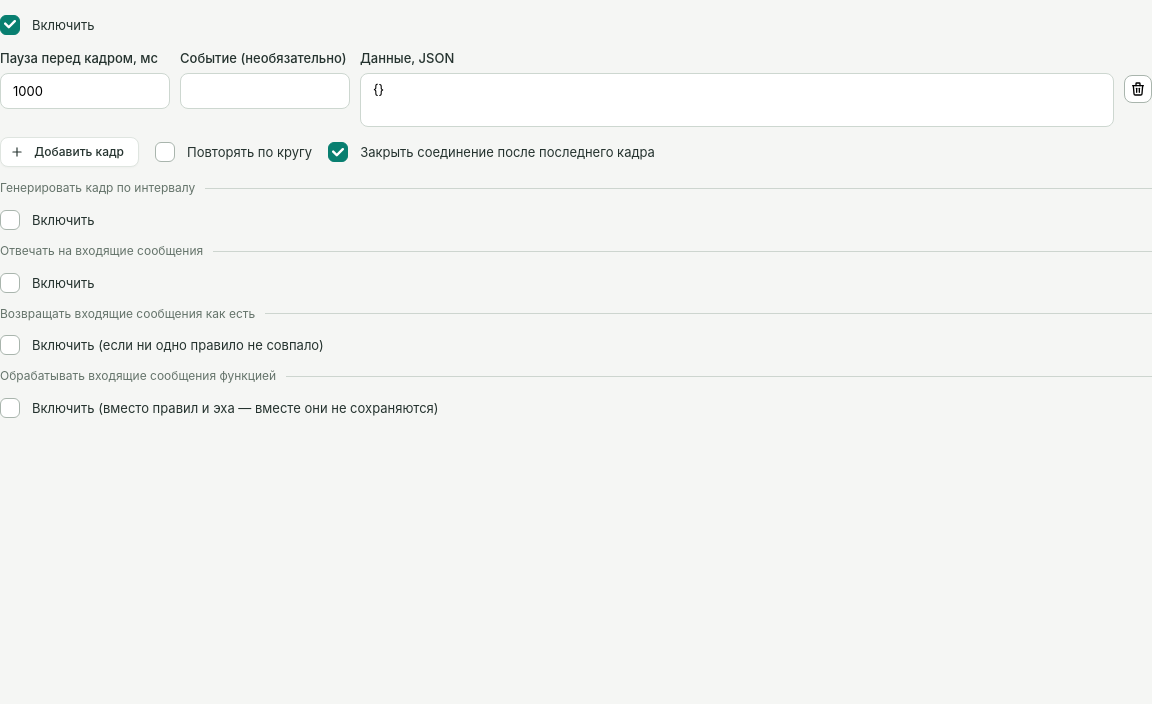
Test: StreamEditor › swaps the schema box for a Lua box when the tick's source is the function, ws only for the hook
Click the checkbox with test id "t-interval-on" at (10, 220), box x1=0 y1=210 x2=20 y2=230
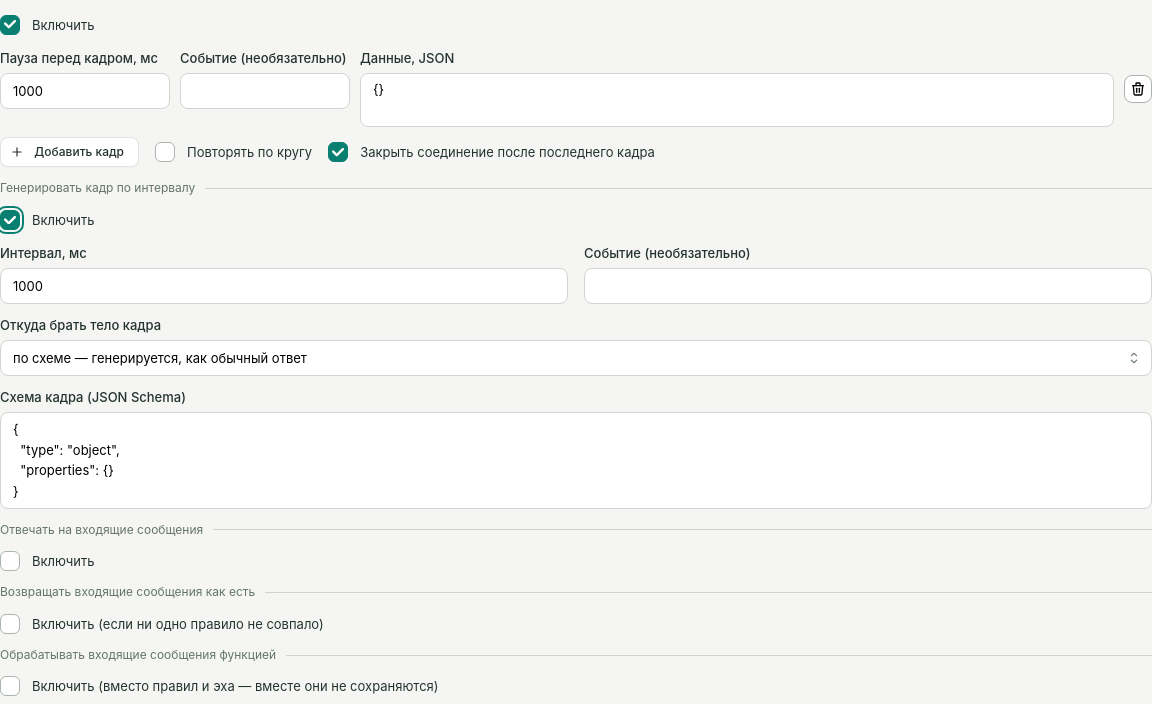
Now the text box with test id "t-interval-schema" is shown, box x1=0 y1=412 x2=1151 y2=508
Select "функцией на Lua — раздел «Функция эндпоинта» в руководстве" in the dropdown with test id "t-interval-source" at (576, 358), box x1=0 y1=340 x2=1151 y2=376
(page scrolled)
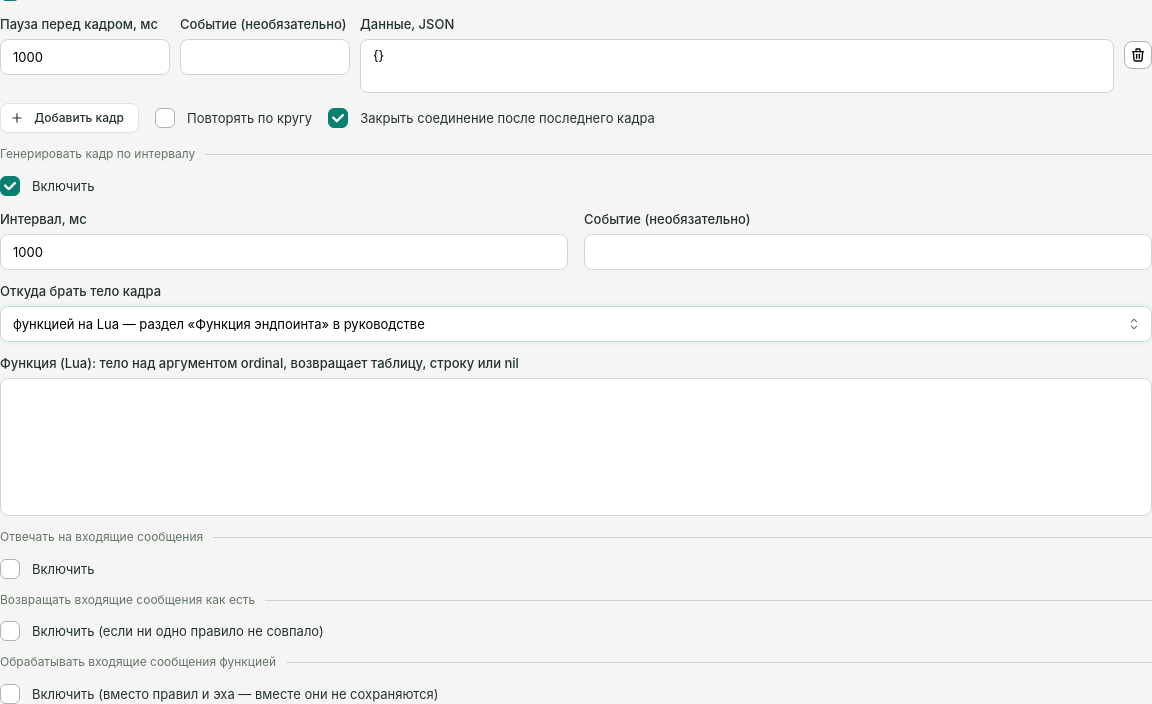
Now the text box with test id "t-interval-lua" is shown, box x1=0 y1=378 x2=1151 y2=516
Click the checkbox with test id "t-on-frame-on" at (10, 694), box x1=0 y1=684 x2=20 y2=703
(page scrolled)
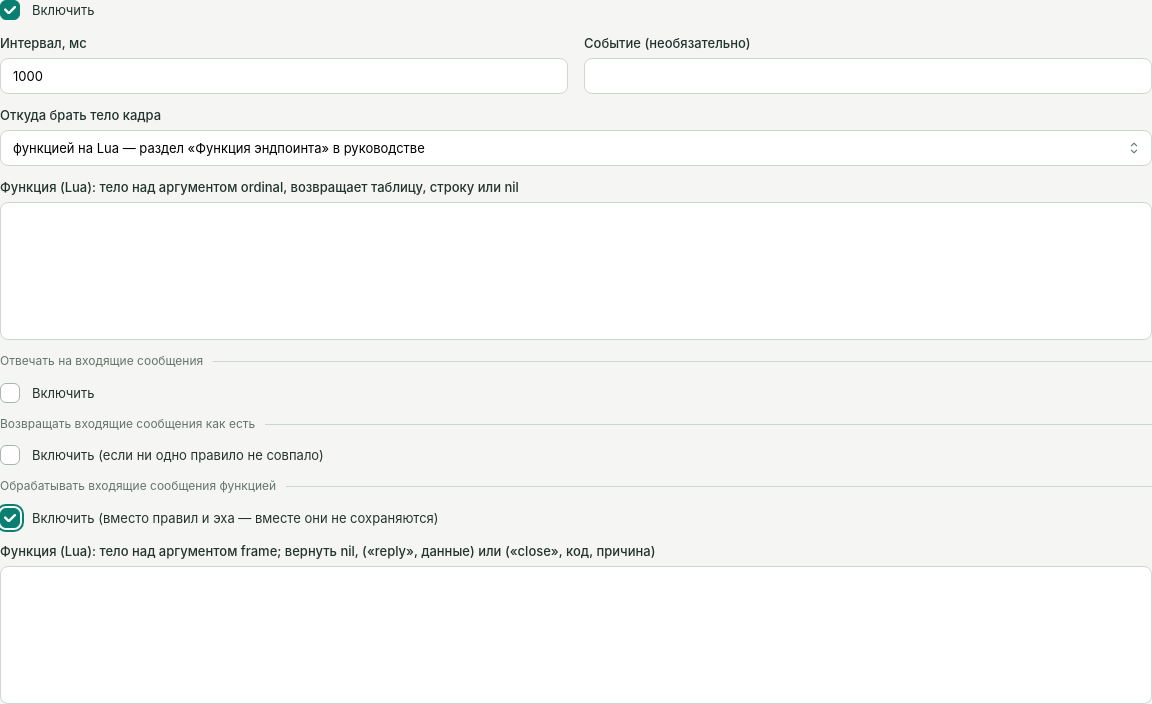
Now the text box with test id "t-on-frame-lua" is shown, box x1=0 y1=566 x2=1151 y2=703
